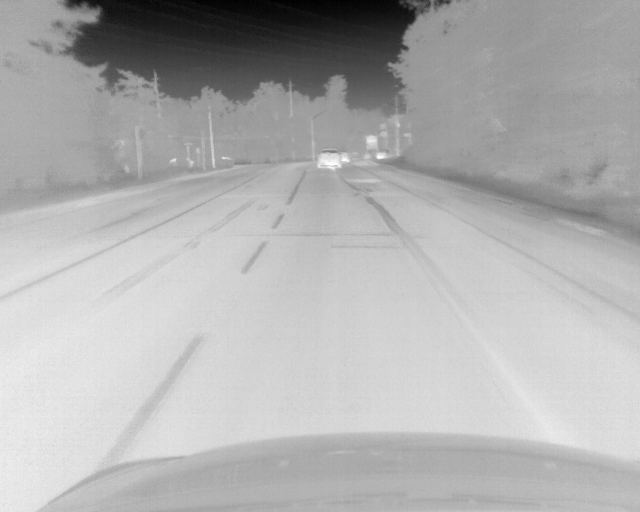car: (316, 149, 340, 169), (339, 151, 350, 163)
